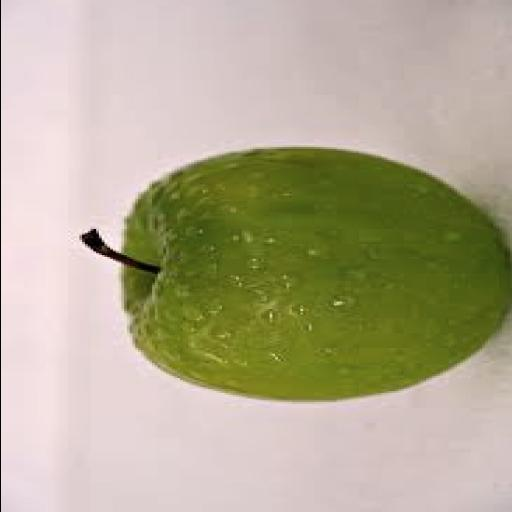apple: (83, 147, 510, 399)
